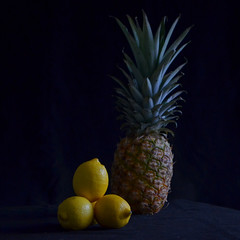Pineapple: (111, 11, 190, 218)
